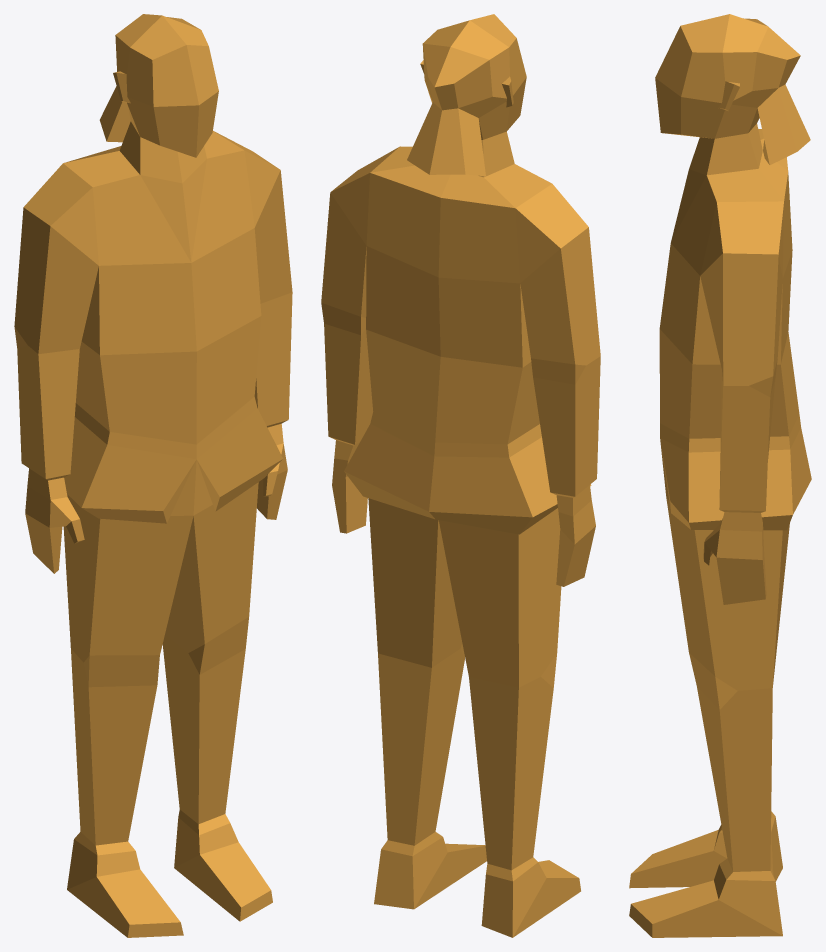
Rendered from man-servant.fbx.
3 views of the same model, side by side, from view 1: azimuth 30°, elevation 25°; view 2: azimuth 150°, elevation 25°; view 3: azimuth 270°, elevation 25° (orthographic).
Parts seen in each view (by area): view 1: man-servant; view 2: man-servant; view 3: man-servant.
Boxes of the visible parts, <box> form: man-servant: <box>14,14,292,937</box>; man-servant: <box>321,14,600,937</box>; man-servant: <box>629,14,811,937</box>.
Bounding box in the file's own units: 0.5438 × 1.79 × 0.3343.
